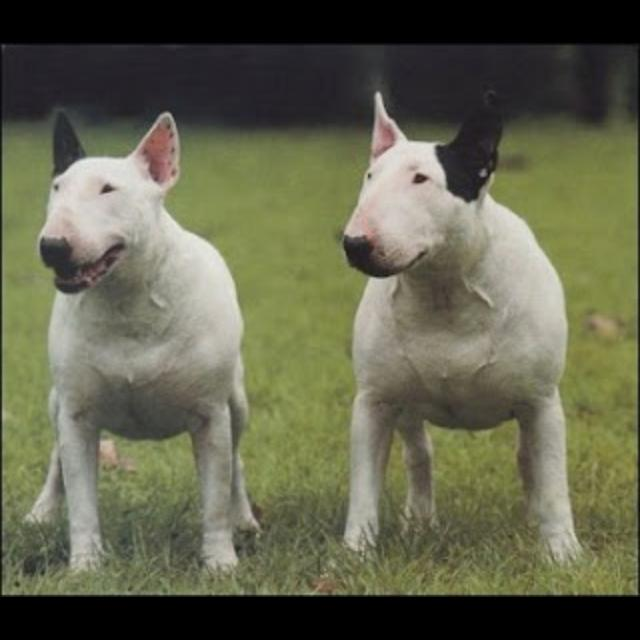bullterrier: (339, 86, 585, 568), (21, 108, 263, 576)
